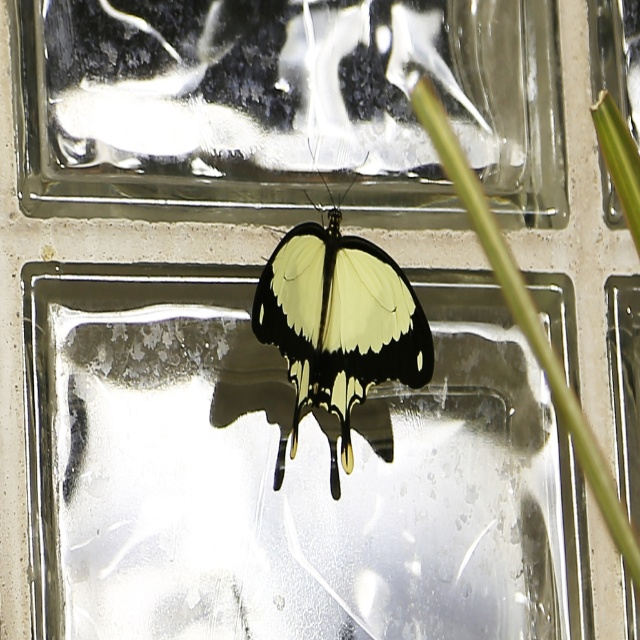Butterfly: (232, 173, 438, 472)
